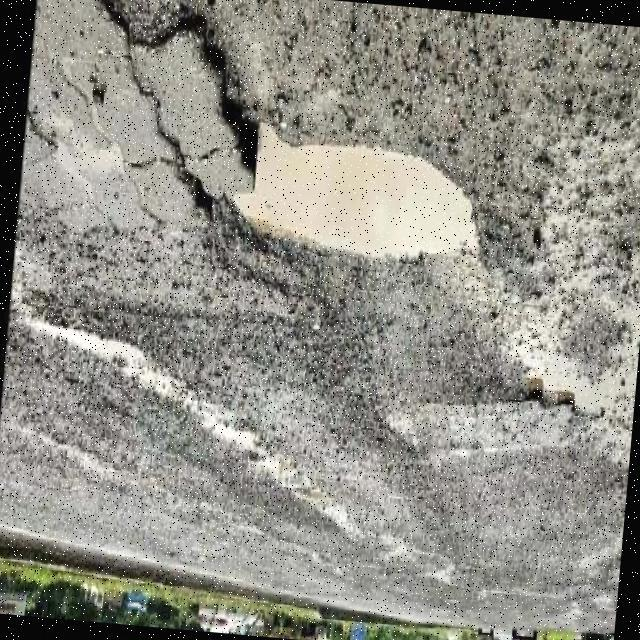Pothole: (229, 123, 478, 254)
